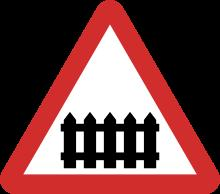Barrier Ahead: (14, 18, 205, 187)
